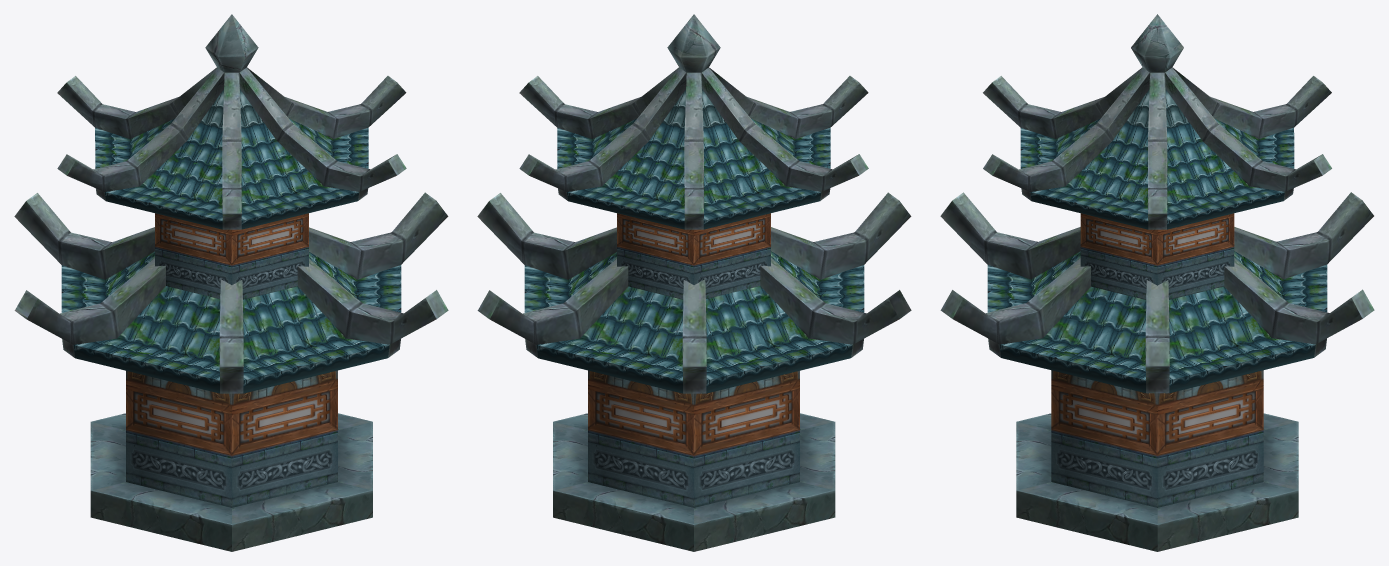
The picture shows the model from 3 angles, left to right: view 1: azimuth 30°, elevation 25°; view 2: azimuth 150°, elevation 25°; view 3: azimuth 270°, elevation 25°; orthographic projection.
Visible parts, largest first — view 1: miniTower; view 2: miniTower; view 3: miniTower.
Part boxes in pixels (bbox=[...]): miniTower: bbox=[14, 14, 448, 551]; miniTower: bbox=[477, 14, 911, 551]; miniTower: bbox=[940, 14, 1374, 551].
Size of the model in its own units: 91.81 by 97.54 by 81.83.
Materials: 1 (1 with a texture image).
